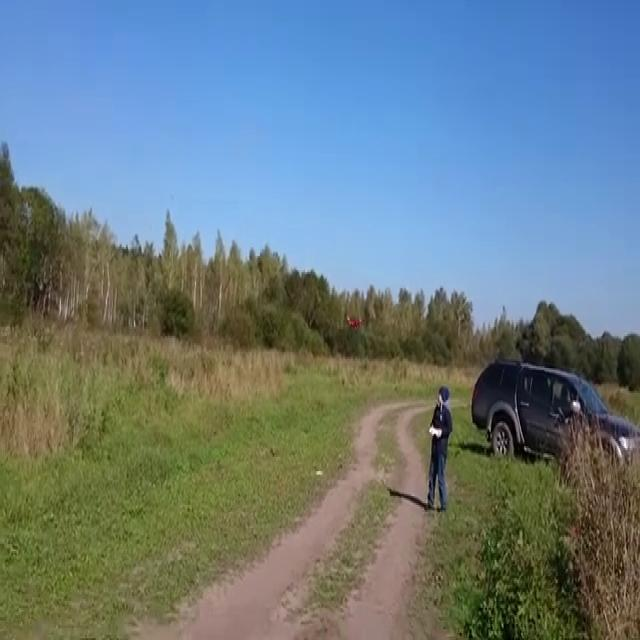Drons: (344, 313, 364, 332)
